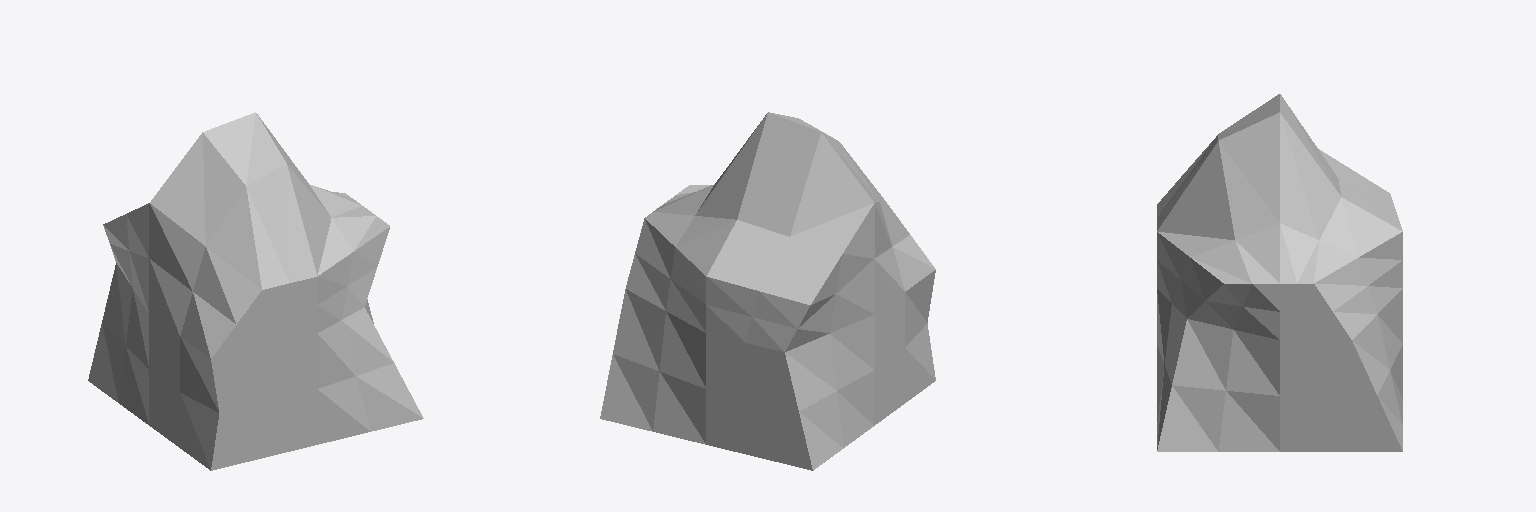
The model's file is abstr_1.obj.
3 renders of one model, left to right at view 1: azimuth 30°, elevation 25°; view 2: azimuth 150°, elevation 25°; view 3: azimuth 270°, elevation 25°, orthographic.
Visible parts, largest first — view 1: experimental_obj_2; view 2: experimental_obj_2; view 3: experimental_obj_2.
Boxes of the visible parts, <box> form: experimental_obj_2: <box>88,112,423,470</box>; experimental_obj_2: <box>600,112,935,470</box>; experimental_obj_2: <box>1157,94,1402,451</box>.
Bounding box in the file's own units: 0.04 × 0.0516 × 0.04.